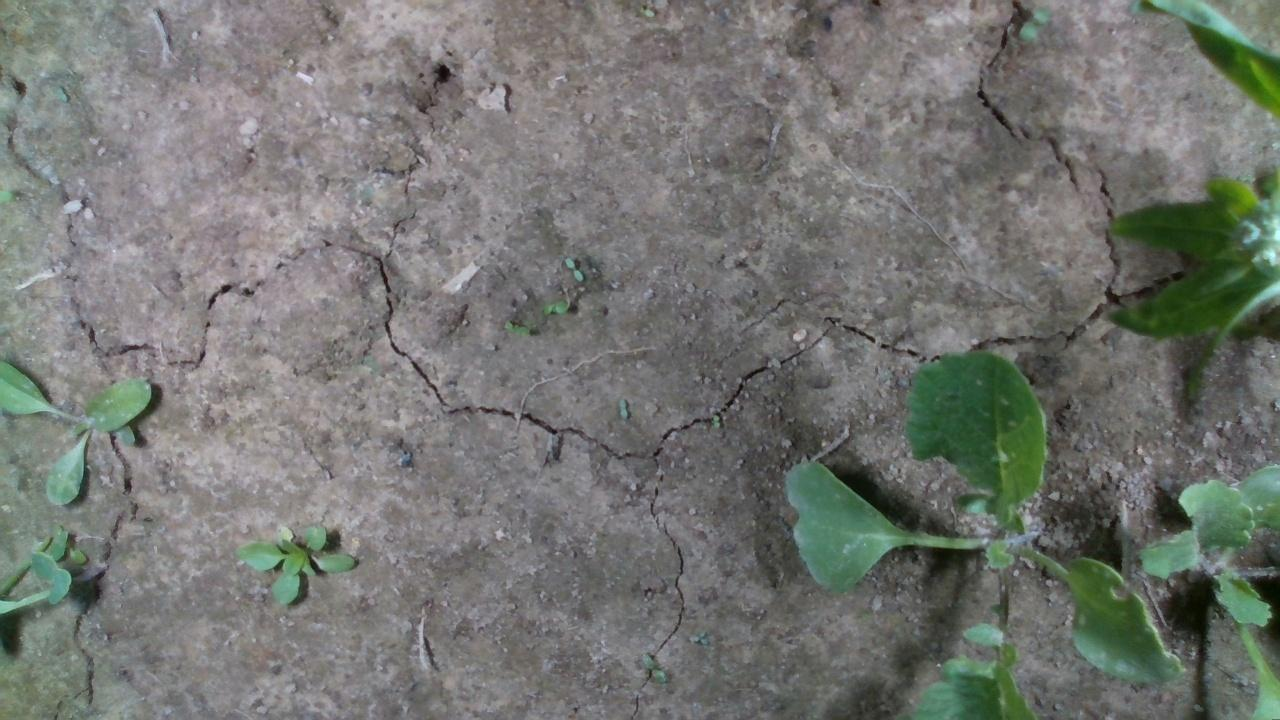weed: (1017, 3, 1051, 41), (637, 650, 666, 683), (501, 317, 532, 339), (563, 254, 583, 281), (542, 298, 569, 315), (616, 395, 629, 419), (53, 85, 68, 103), (710, 412, 721, 428)
